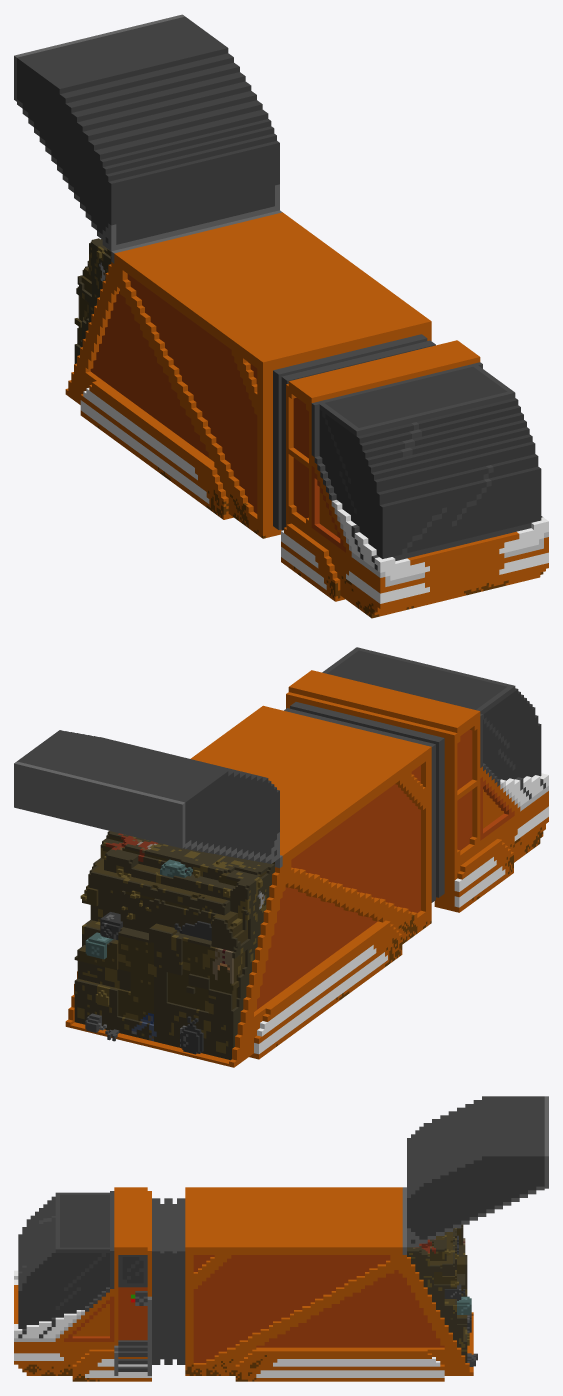
File: OrangeGarbagetruck-2.obj
The picture shows the model from 3 angles, top to bottom: view 1: azimuth 30°, elevation 25°; view 2: azimuth 150°, elevation 25°; view 3: azimuth 270°, elevation 25°; orthographic projection. The views are drawn at different scales.
Bounding box in the file's own units: 7.4 × 11.8 × 25.6.
Materials: 1 (1 with a texture image).
